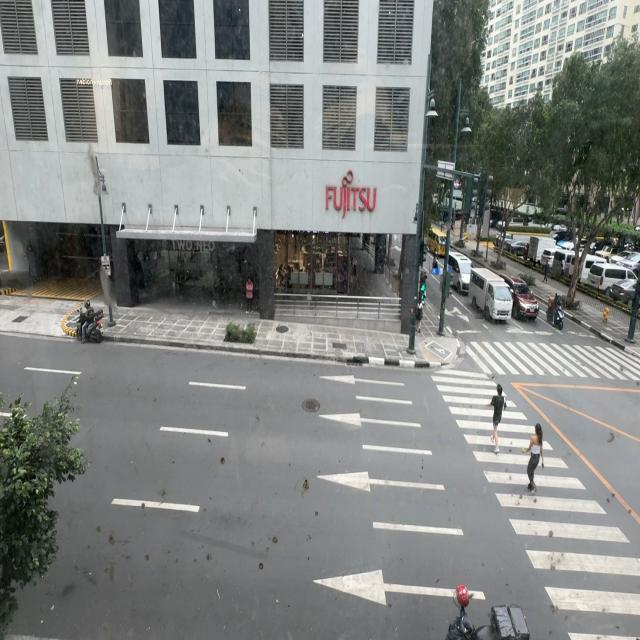crossing: (522, 421, 544, 492), (486, 384, 506, 455)
pedestrain: (414, 278, 424, 333), (245, 274, 255, 310), (542, 258, 550, 282)
